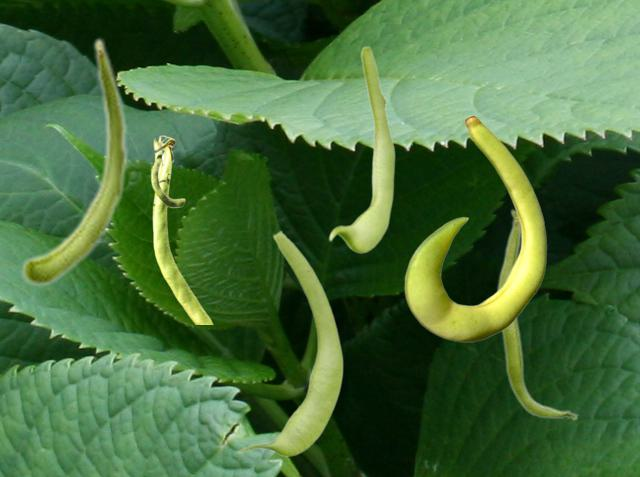french_bean: (404, 115, 546, 341), (20, 36, 128, 286), (236, 229, 343, 455), (496, 208, 578, 420), (328, 45, 394, 252), (150, 135, 212, 323)
